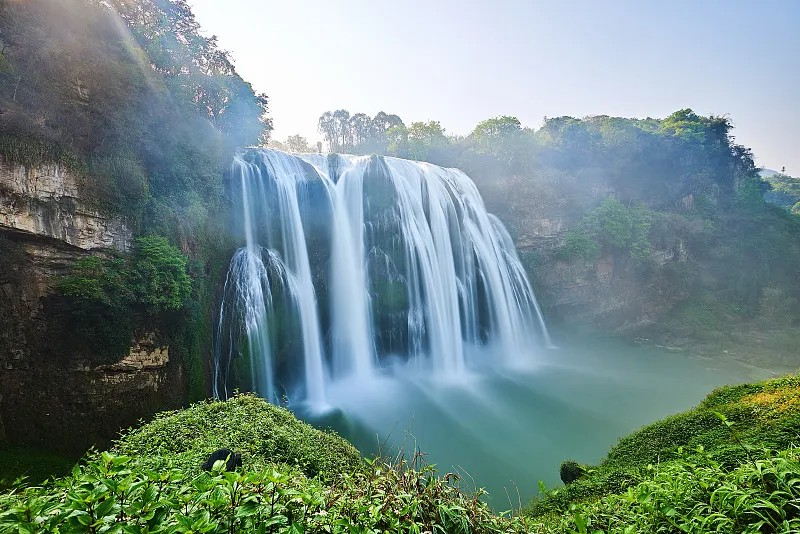Huangguoshu: (213, 152, 554, 412)
